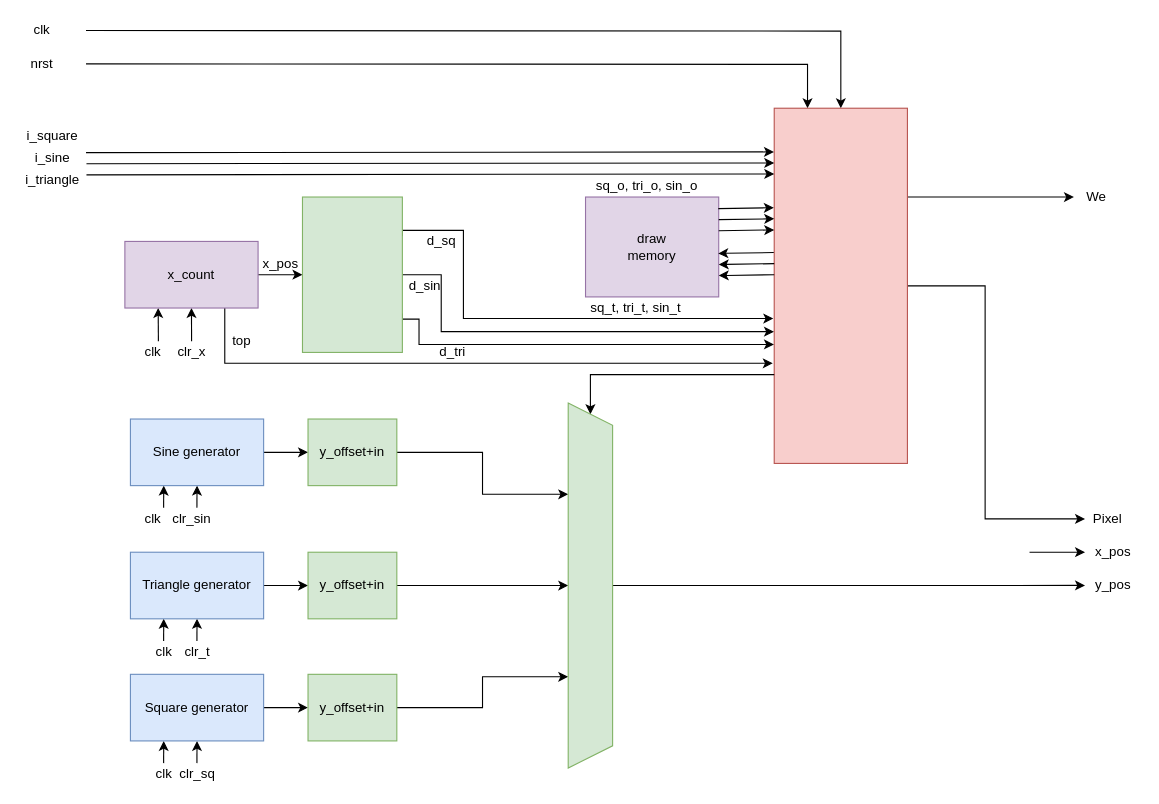
This 1159x804 diagram has some shape labels left out. Each missing label, with the centre of its shape:
Constrains: (351,274)
FSM: (840,285)
MUX: (590,585)
